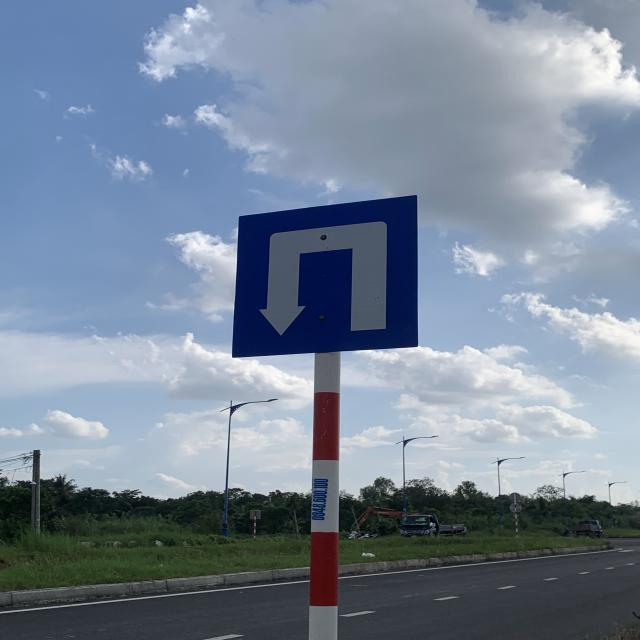Den_Giao_Thong: (234, 188, 424, 361)
